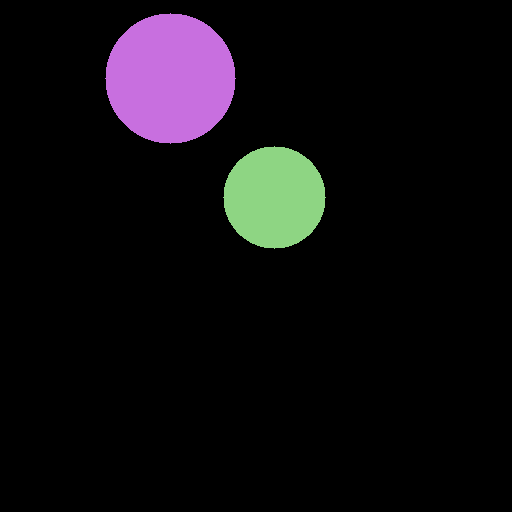circle: (105, 13, 235, 143), (223, 146, 325, 248)
